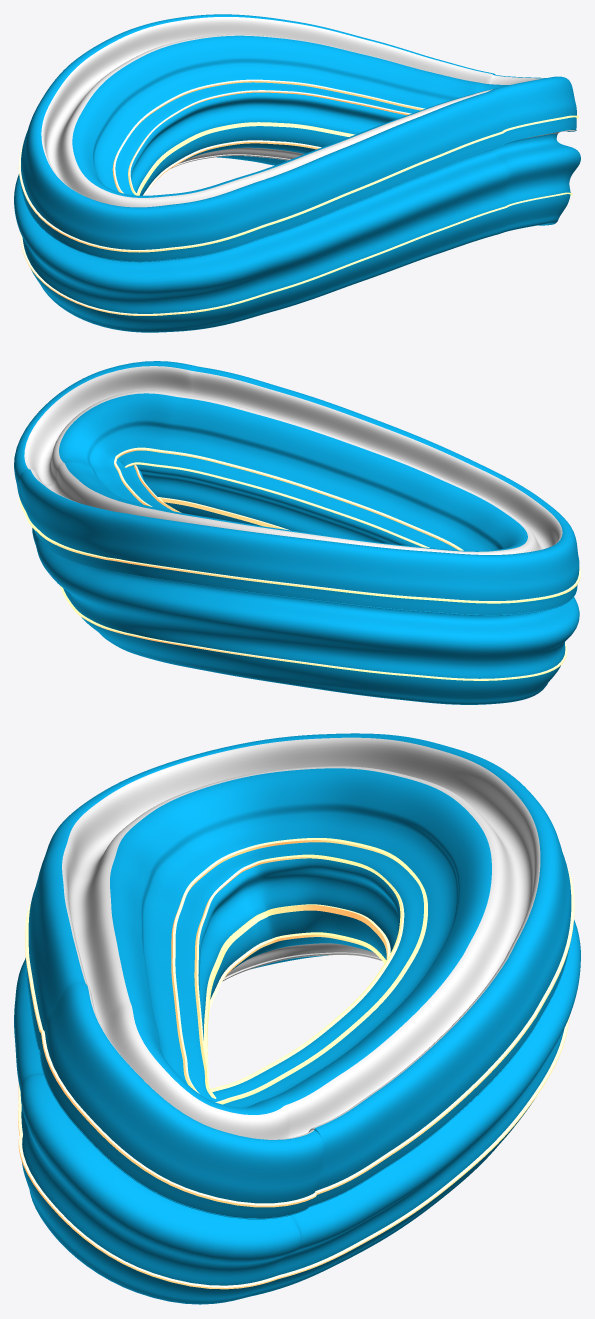
Rendered from test_-_blob_2.glb.
3 views of the same model, one above another, from view 1: azimuth 30°, elevation 25°; view 2: azimuth 150°, elevation 25°; view 3: azimuth 270°, elevation 25° (orthographic). The views are drawn at different scales.
Visible parts, largest first — view 1: Path_0; view 2: Path_0; view 3: Path_0.
Boxes of the visible parts, x1,y1,x2,y2 form: Path_0: (14, 14, 580, 332); Path_0: (14, 361, 580, 704); Path_0: (14, 733, 580, 1304).
Size of the model in its own units: 2.67 by 0.9263 by 1.65.
